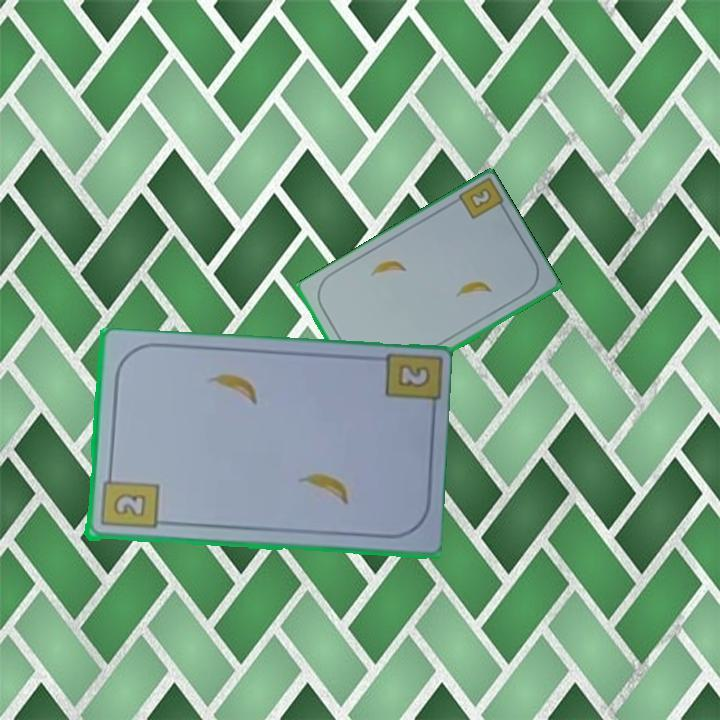2b: (97, 468, 160, 533), (397, 364, 430, 389), (466, 185, 495, 212)
